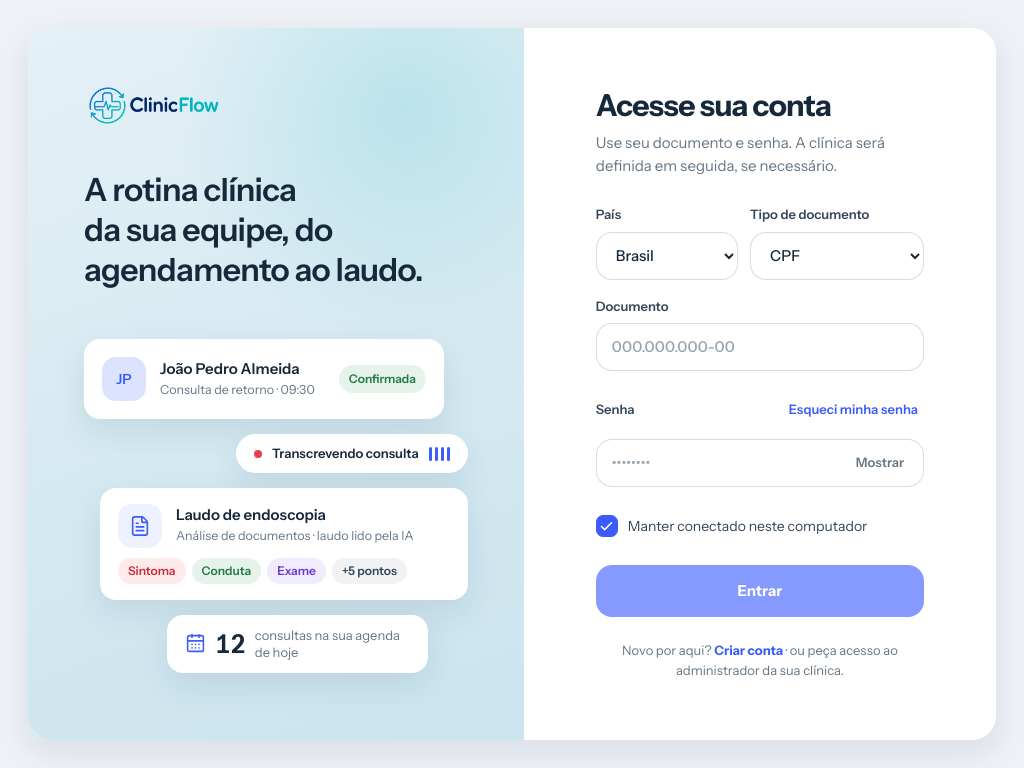
Test: LoginPage › não usa e-mail como username e valida CPF antes da autenticação
Type "123" into the field labelled "Documento".
click(760, 347); type("123")  # box [596,323,924,371]
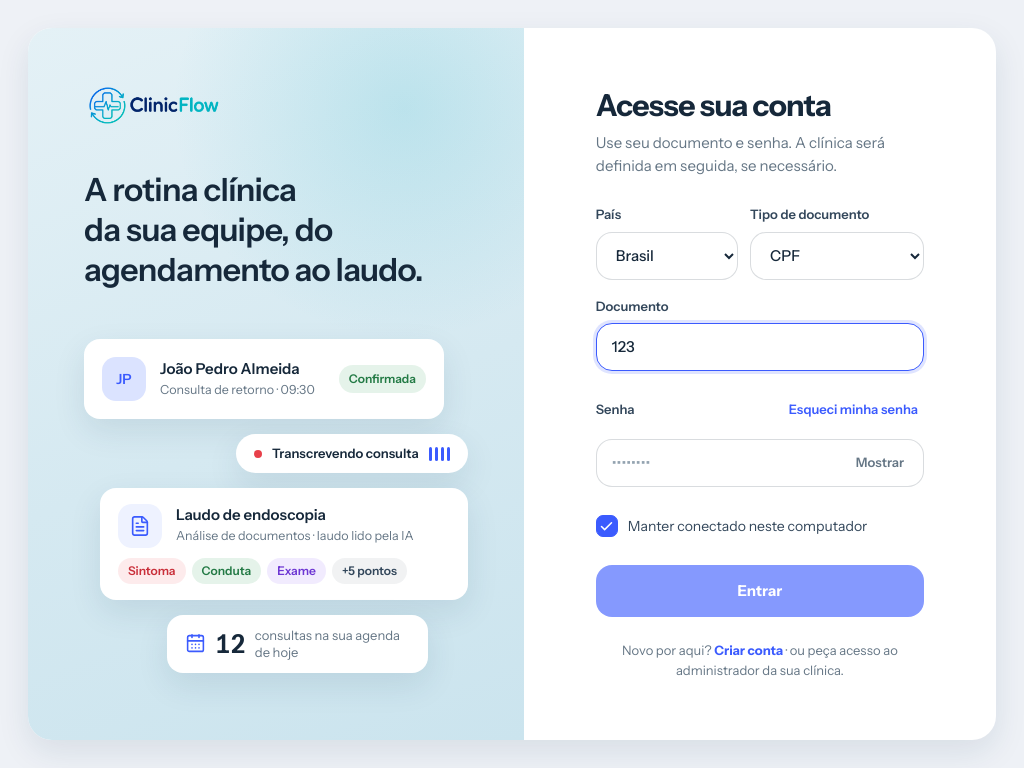
Type "segredo" into the password field labelled "Senha".
click(760, 463); type("segredo")  # box [596,439,924,487]
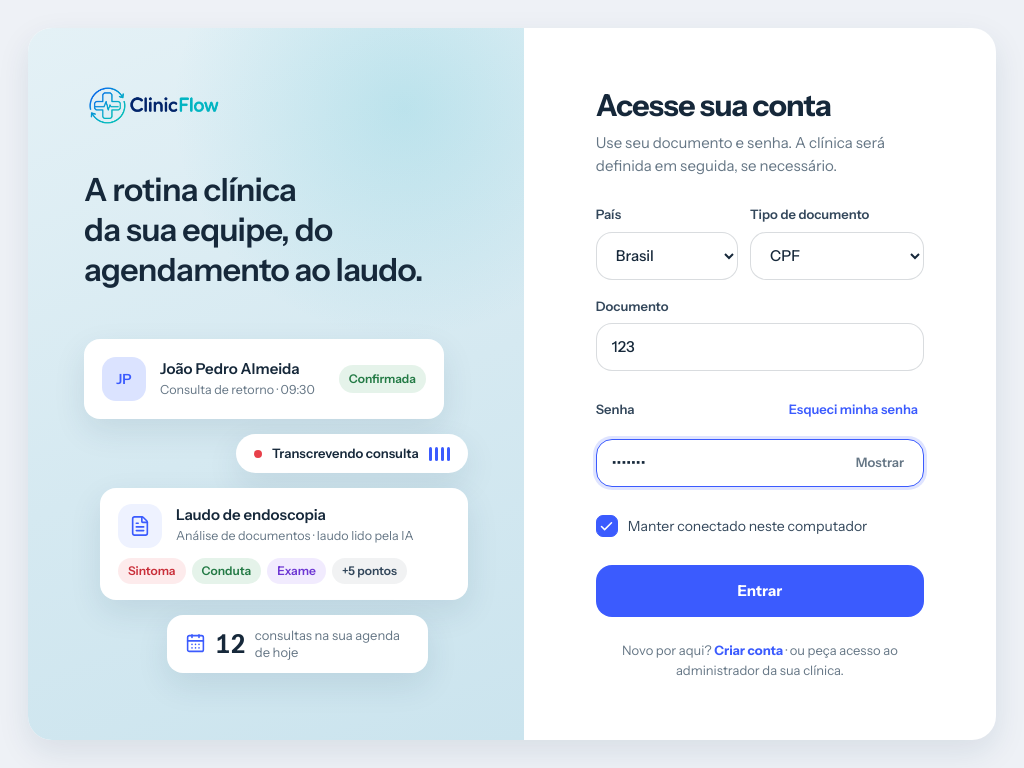
Click the button "Entrar".
click(760, 591)  # box [596,565,924,617]
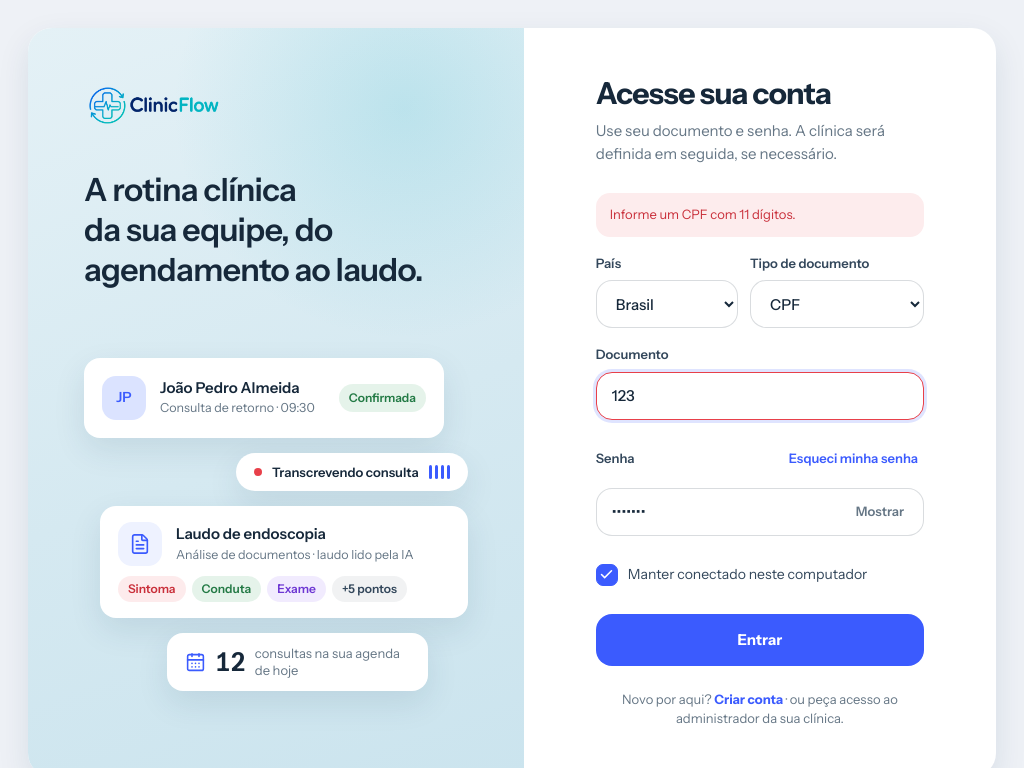
Now the message reads "Informe um CPF com 11 dígitos.", box [610,206,796,222]
